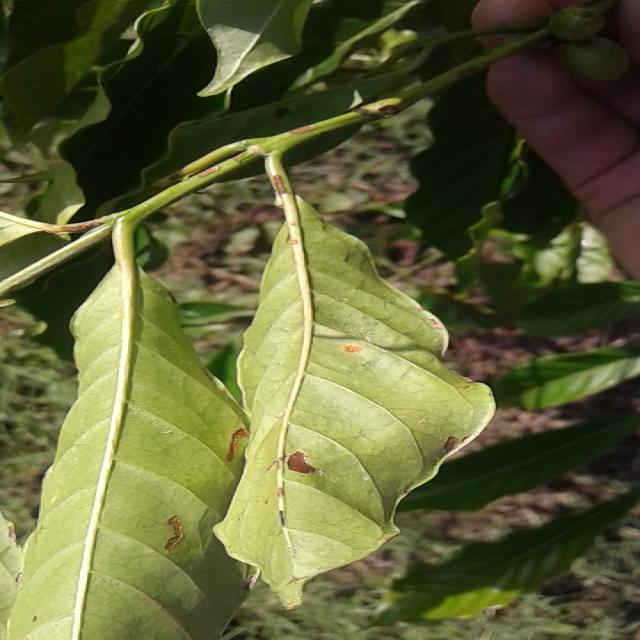Plaga-AranaRoja: (216, 170, 496, 608)
